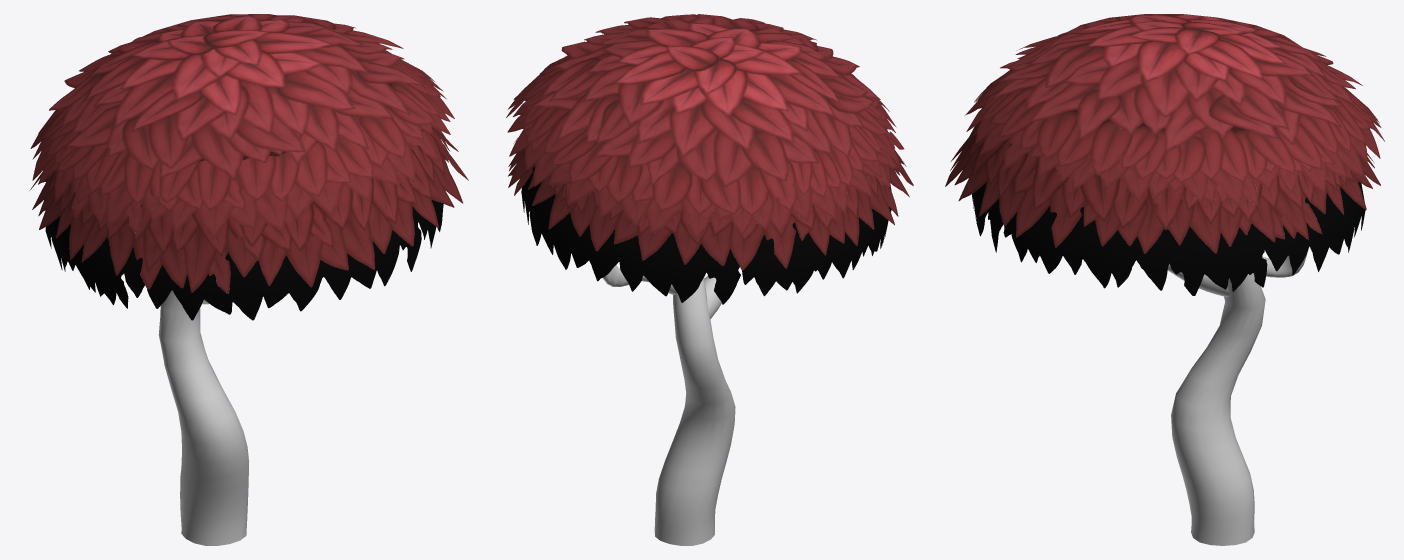
The model's file is tree.fbx.
3 views of the same model, side by side, from view 1: azimuth 30°, elevation 25°; view 2: azimuth 150°, elevation 25°; view 3: azimuth 270°, elevation 25° (orthographic). The views are drawn at different scales.
Visible parts, largest first — view 1: polySurface9; view 2: polySurface9; view 3: polySurface9.
Boxes of the visible parts, x1=… form: polySurface9: x1=29, y1=14, x2=468, y2=545; polySurface9: x1=506, y1=14, x2=913, y2=545; polySurface9: x1=945, y1=14, x2=1384, y2=545.
Bounding box in the file's own units: 1.98 × 2.43 × 1.98.
